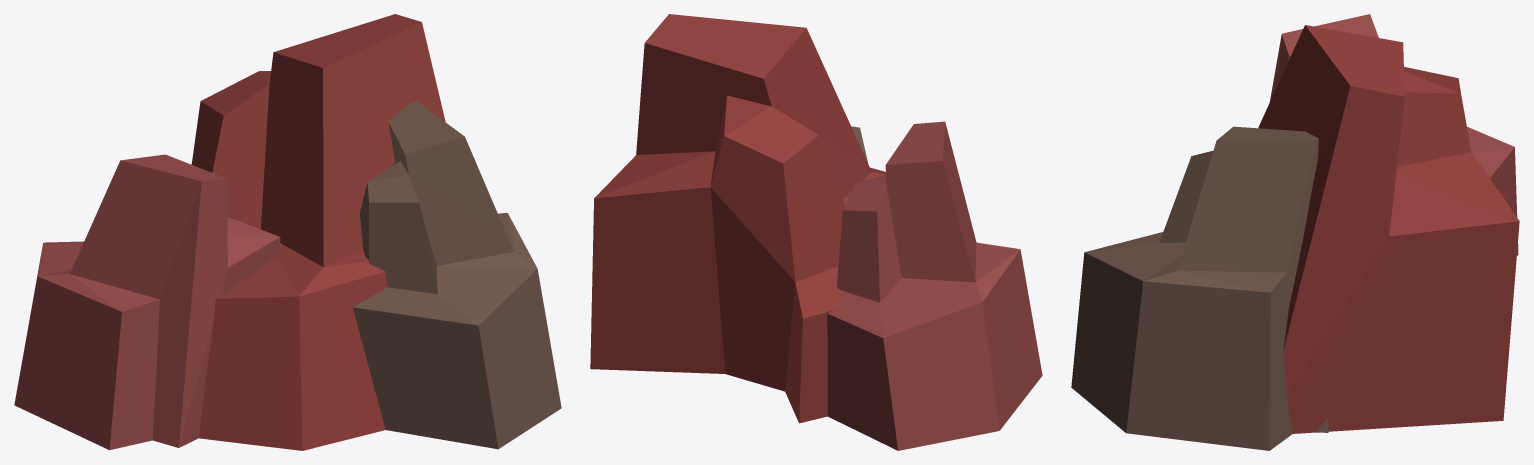
Rendered from RAS_Rock03.fbx.
The picture shows the model from 3 angles, left to right: view 1: azimuth 30°, elevation 25°; view 2: azimuth 150°, elevation 25°; view 3: azimuth 270°, elevation 25°; orthographic projection. The views are drawn at different scales.
Visible parts, largest first — view 1: RAS_Rock03; view 2: RAS_Rock03; view 3: RAS_Rock03.
Part boxes in pixels (x1,y1,x2,y2): RAS_Rock03: (14, 14, 561, 450); RAS_Rock03: (590, 14, 1042, 450); RAS_Rock03: (1071, 14, 1519, 450).
Bounding box in the file's own units: 92 × 62.82 × 77.18.
1 material, 1 textured.
